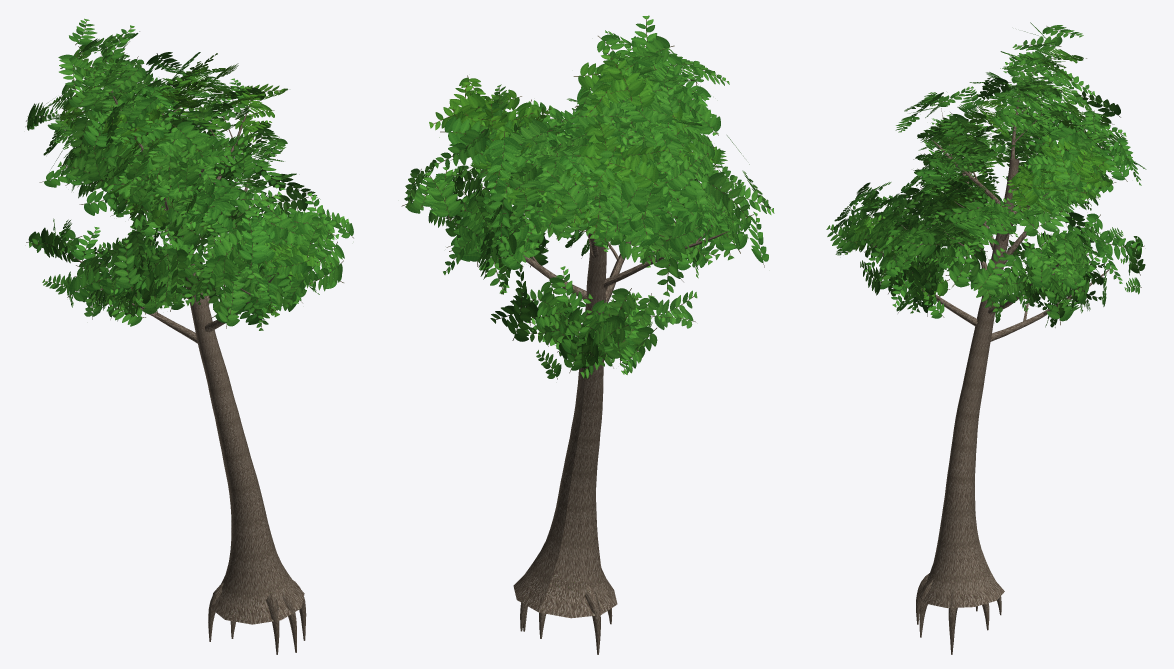
The model's file is copa_g_b.glb.
The picture shows the model from 3 angles, left to right: view 1: azimuth 30°, elevation 25°; view 2: azimuth 150°, elevation 25°; view 3: azimuth 270°, elevation 25°; orthographic projection. The views are drawn at different scales.
Parts seen in each view (by area): view 1: copa_g_b; view 2: copa_g_b; view 3: copa_g_b.
Boxes of the visible parts, x1,y1,x2,y2 form: copa_g_b: [25, 18, 353, 654]; copa_g_b: [401, 15, 774, 654]; copa_g_b: [826, 22, 1146, 654].
Bounding box in the file's own units: 5.38 × 10.82 × 5.99.
2 materials, 2 textured.
